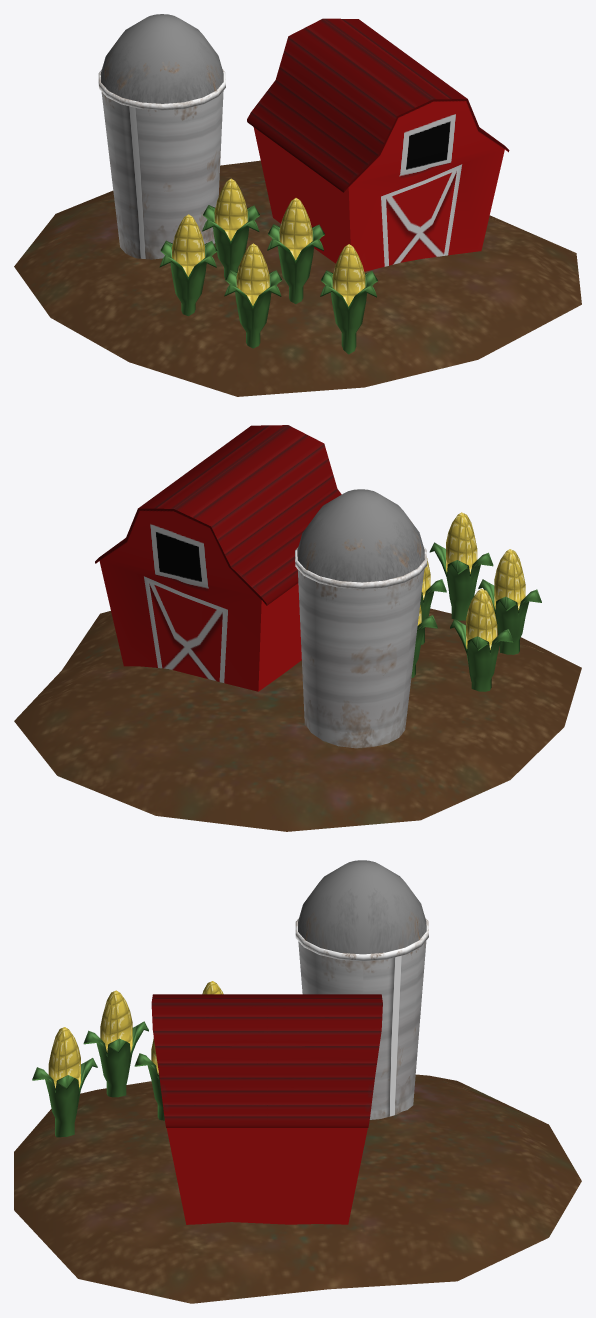
Rendered from cornFarm_7_7_13.FBX.
The picture shows the model from 3 angles, top to bottom: view 1: azimuth 30°, elevation 25°; view 2: azimuth 150°, elevation 25°; view 3: azimuth 270°, elevation 25°; orthographic projection. The views are drawn at different scales.
Parts seen in each view (by area): view 1: Sphere001, Box001, Cylinder001, Box007, Box008, Box006, Box005, Box009; view 2: Sphere001, Box001, Cylinder001, Box007, Box005, Box006, Box008, Box009; view 3: Sphere001, Box001, Cylinder001, Box007, Box006, Box008.
Part boxes in pixels (box(x1,y1,x2,y2)): Sphere001: box(14, 160, 581, 396); Box001: box(247, 18, 509, 271); Cylinder001: box(98, 14, 225, 259); Box007: box(320, 244, 377, 354); Box008: box(267, 198, 324, 303); Box006: box(224, 243, 281, 348); Box005: box(159, 214, 217, 316); Box009: box(202, 178, 259, 278); Sphere001: box(14, 608, 581, 831); Box001: box(95, 425, 341, 691); Cylinder001: box(295, 489, 427, 748); Box007: box(429, 512, 493, 620); Box005: box(450, 588, 513, 691); Box006: box(478, 549, 541, 654); Box008: box(420, 558, 446, 644); Box009: box(411, 605, 437, 678); Sphere001: box(14, 1074, 581, 1303); Box001: box(151, 994, 382, 1224); Cylinder001: box(295, 860, 428, 1119); Box007: box(32, 1027, 97, 1137); Box006: box(83, 990, 148, 1097); Box008: box(134, 1038, 164, 1120).
Size of the model in its own units: 175 by 92.65 by 178.
